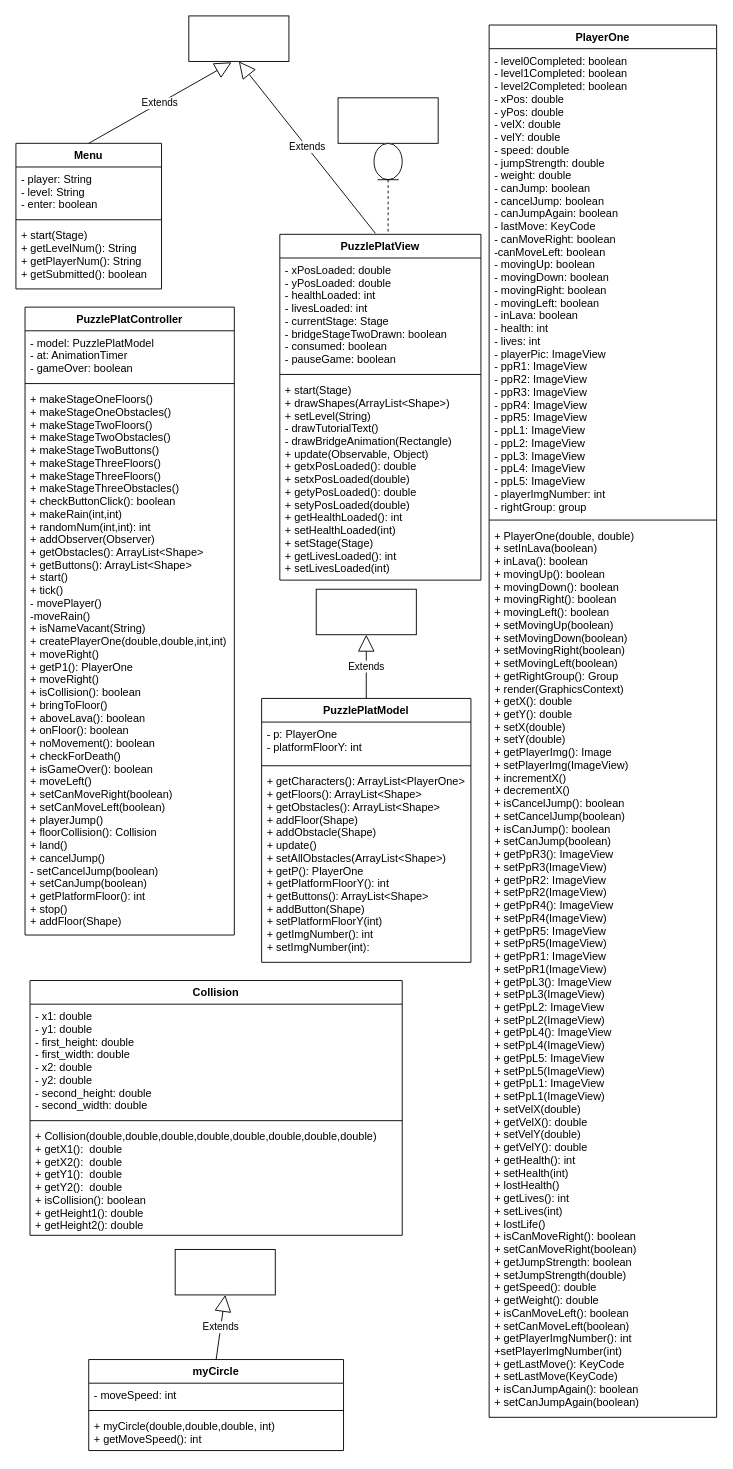
Image size: 733x1469. Some labels were removed from this diagram. The shapes that lost their labels are listed below. From the top down, each one's centre as x and y in pixels, then its label:
(238,38): Application
(387,120): «interface» Observer
(365,611): Observable
(224,1272): Circle
